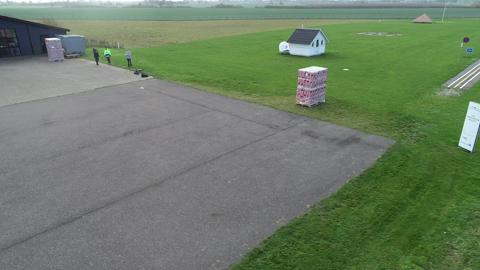RockwoolPallet: (44, 37, 65, 63)
